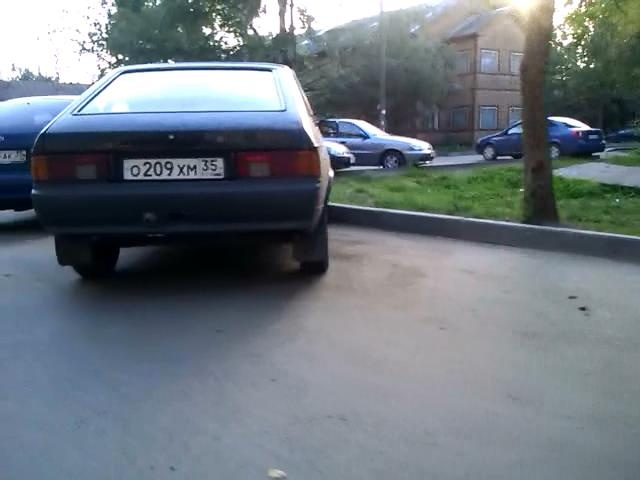car license plate: (120, 155, 224, 181), (1, 148, 27, 165)
